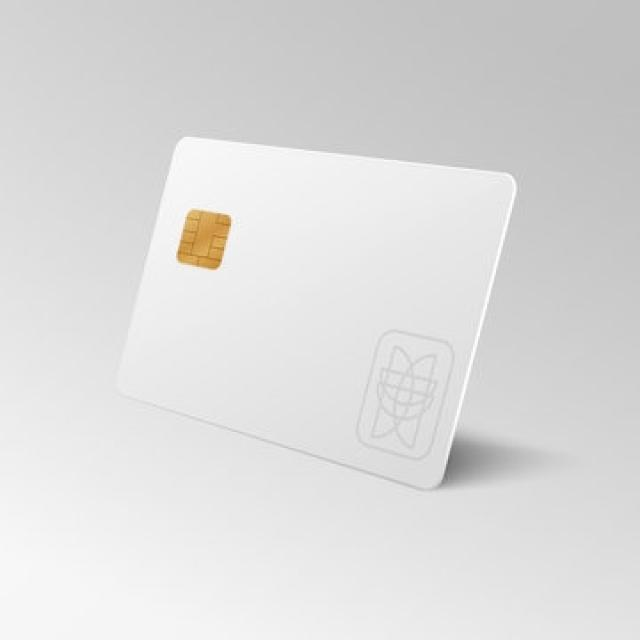payment_card: (115, 133, 518, 491)
